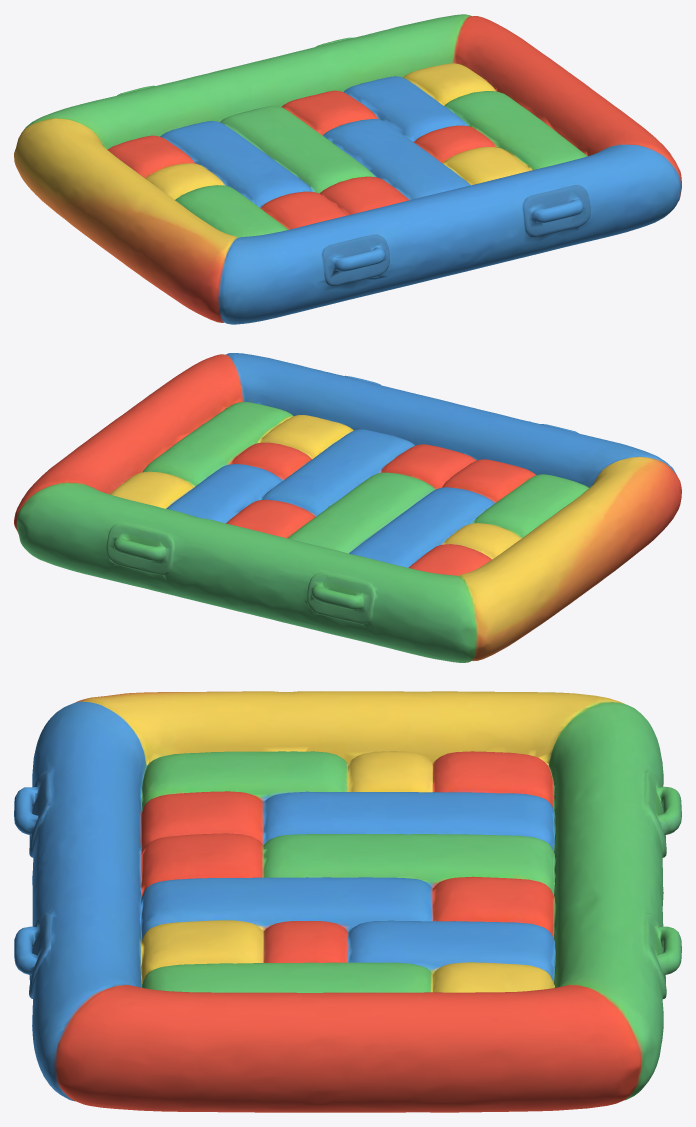
Rendered from moving_platform.glb.
The picture shows the model from 3 angles, top to bottom: view 1: azimuth 30°, elevation 25°; view 2: azimuth 150°, elevation 25°; view 3: azimuth 270°, elevation 25°; orthographic projection. The views are drawn at different scales.
Parts seen in each view (by area): view 1: tripo_node_45551904-1be4-4d3a-ae67-6c31e2d6a45f; view 2: tripo_node_45551904-1be4-4d3a-ae67-6c31e2d6a45f; view 3: tripo_node_45551904-1be4-4d3a-ae67-6c31e2d6a45f.
Boxes of the visible parts, left/top/right/bottom form: tripo_node_45551904-1be4-4d3a-ae67-6c31e2d6a45f: left=14, top=14, right=681, bottom=324; tripo_node_45551904-1be4-4d3a-ae67-6c31e2d6a45f: left=14, top=353, right=681, bottom=662; tripo_node_45551904-1be4-4d3a-ae67-6c31e2d6a45f: left=14, top=691, right=681, bottom=1112.
Bounding box in the file's own units: 1.31 × 0.2001 × 1.06.
1 material, 1 textured.
